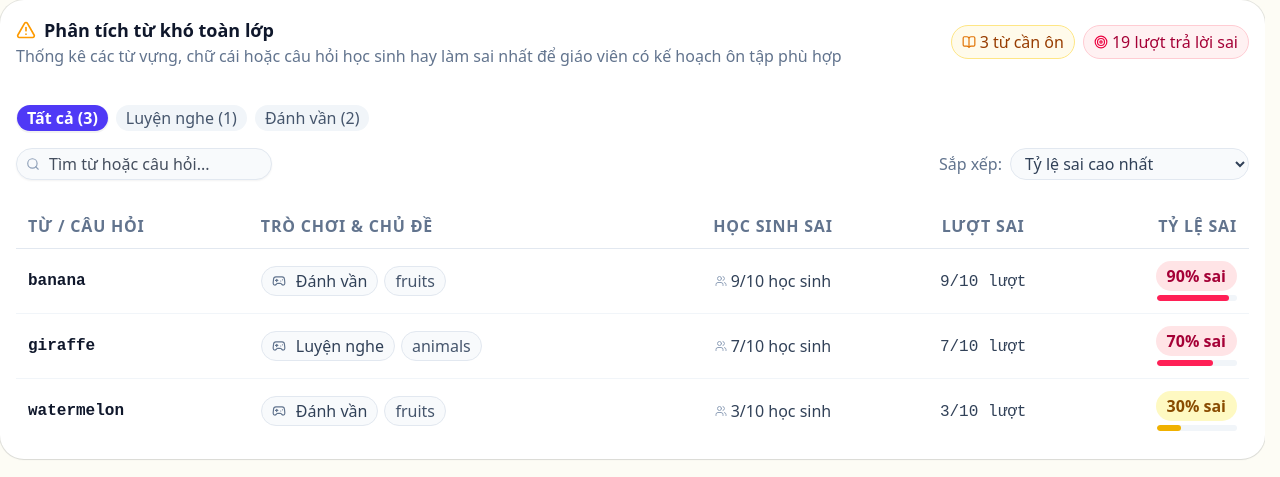
Test: DifficultWordsAnalysis Component › filters difficult words by game type (Acceptance Scenario 2)
Expected: the text "giraffe" is shown, [28,334,95,358]
Expected: the text "banana" is shown, [28,269,86,293]
# Filter by "Đánh vần" (spelling)
Click the button "Đánh vần (2)" at (312, 118), box [254,104,370,132]
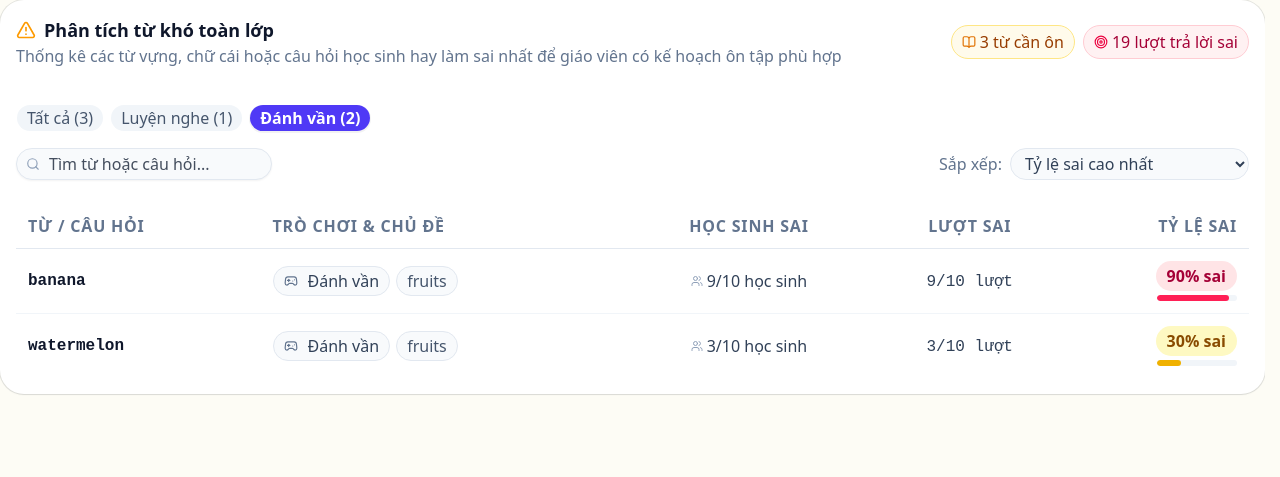
Expected: the text "banana" is shown, [28,269,86,293]
Expected: the text "giraffe" is gone
# Filter by "Luyện nghe" (listening)
Click the button "Luyện nghe (1)" at (177, 118), box [110,104,243,132]
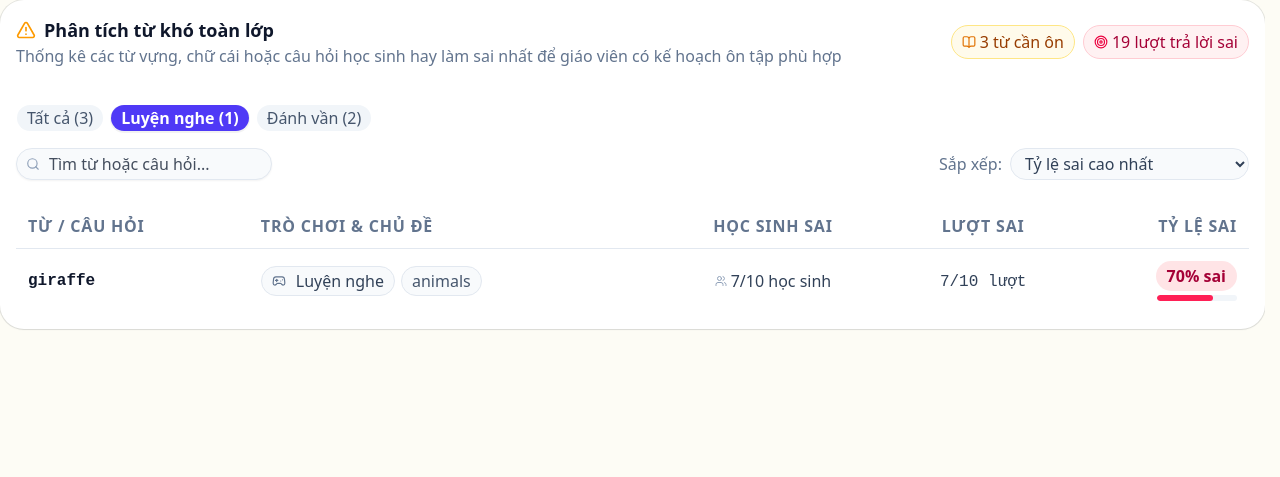
Expected: the text "giraffe" is shown, [28,269,95,293]
Expected: the text "banana" is gone
Expected: the text "watermelon" is gone
# Filter back to "Tất cả"
Click the button "Tất cả (3)" at (60, 118), box [16,104,104,132]
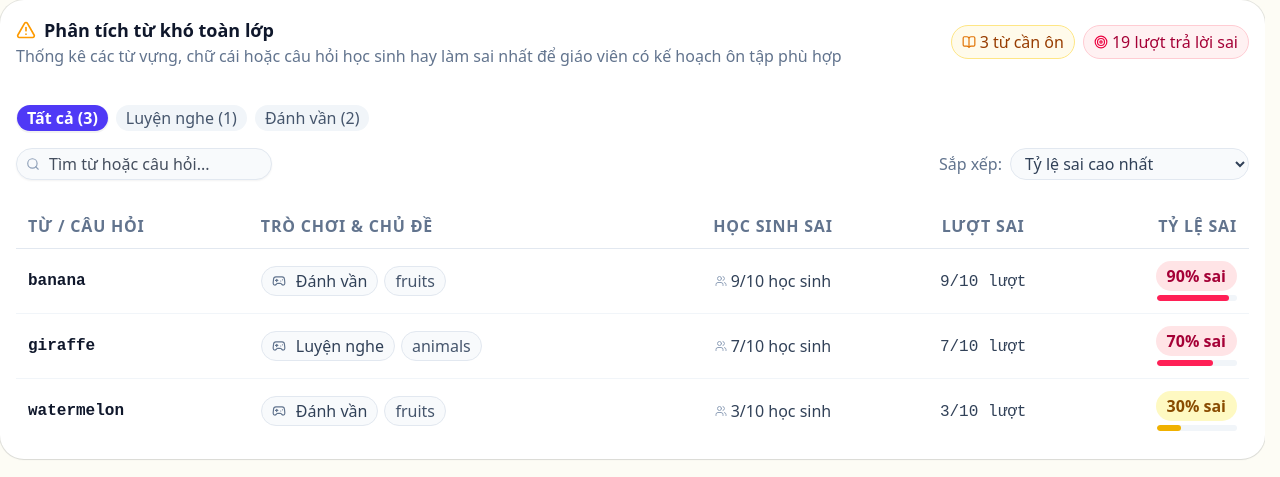
Expected: the text "giraffe" is shown, [28,334,95,358]
Expected: the text "banana" is shown, [28,269,86,293]
Expected: the text "watermelon" is shown, [28,399,124,423]
